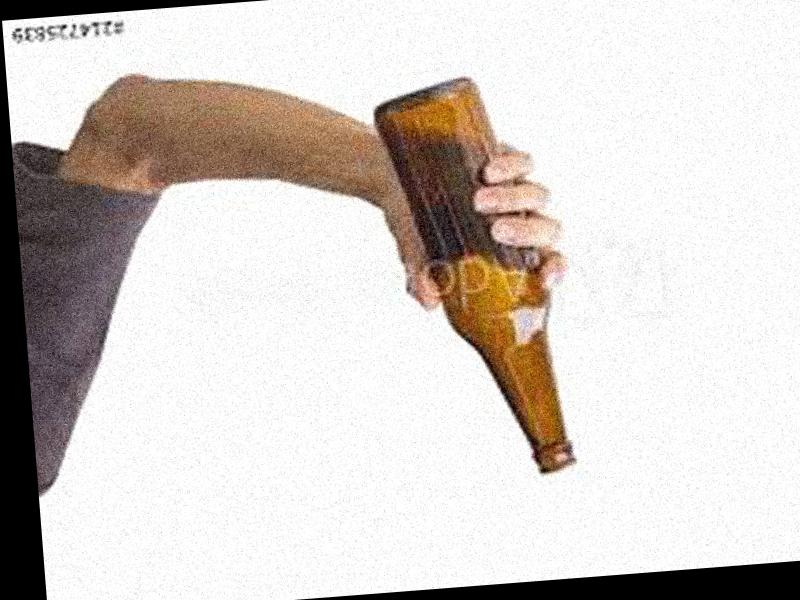Beer: (370, 70, 579, 486)
